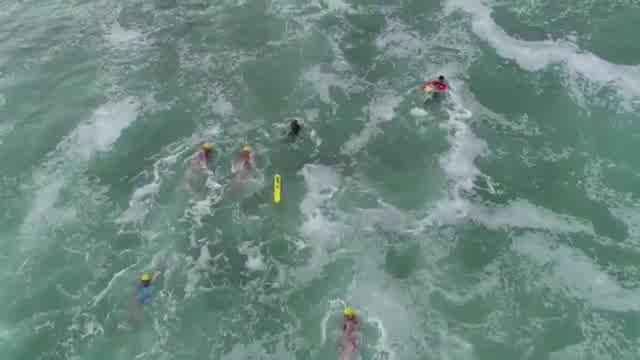human: (340, 307, 357, 359), (421, 73, 453, 100)
